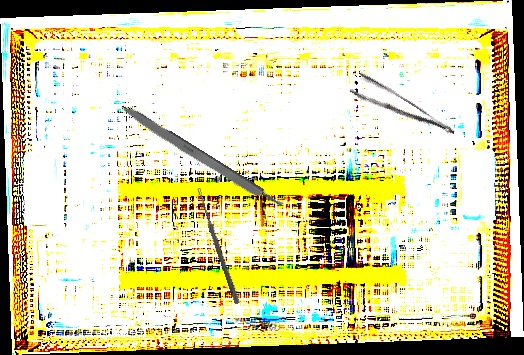Dressing Forceps: (348, 70, 457, 151)
Scalpel Handle: (117, 102, 285, 213)
Surgical Spoon: (195, 187, 241, 305)
